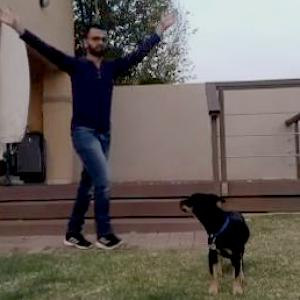takeoff: (1, 9, 169, 258)
